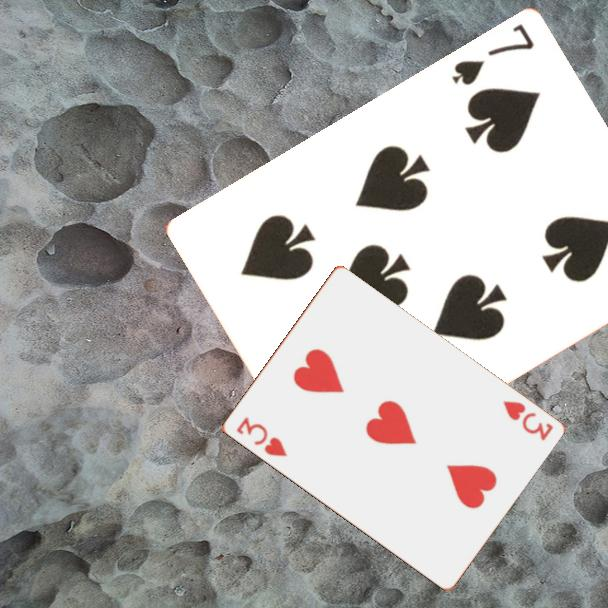h03: (232, 413, 290, 460), (499, 397, 556, 444)
s07: (447, 20, 537, 89)
